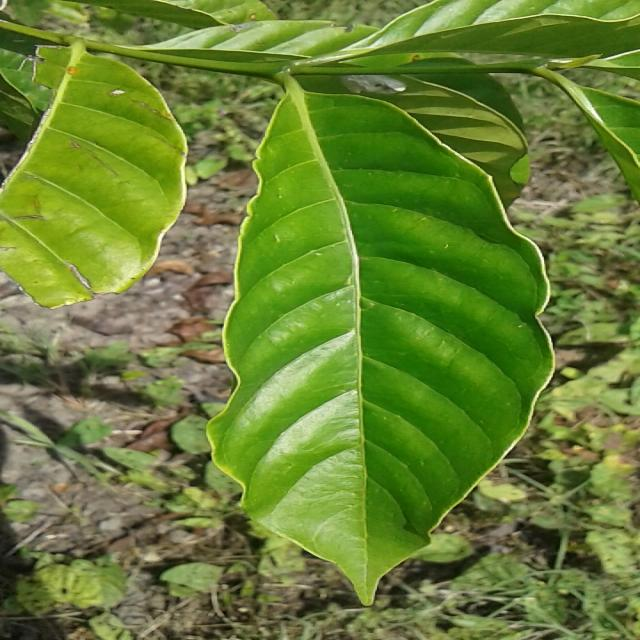Sanas: (204, 74, 553, 608)
